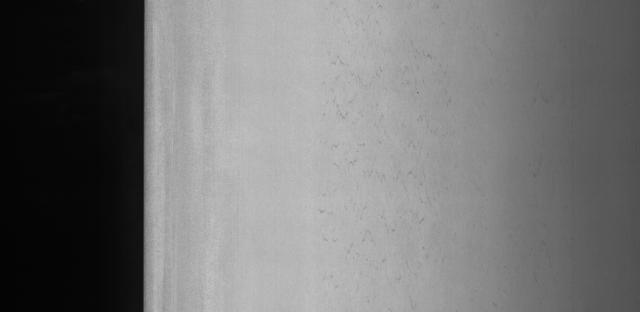silk_spot: (316, 11, 479, 242)
